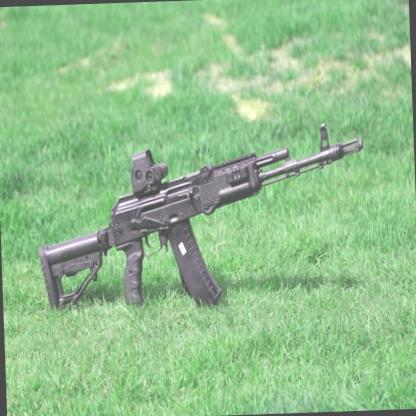rifle: (27, 138, 367, 320)
